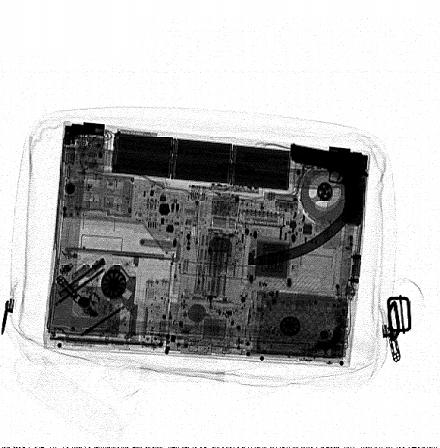Gun: (291, 144, 368, 228)
